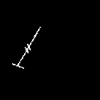treble_crochet: (13, 29, 38, 67)
